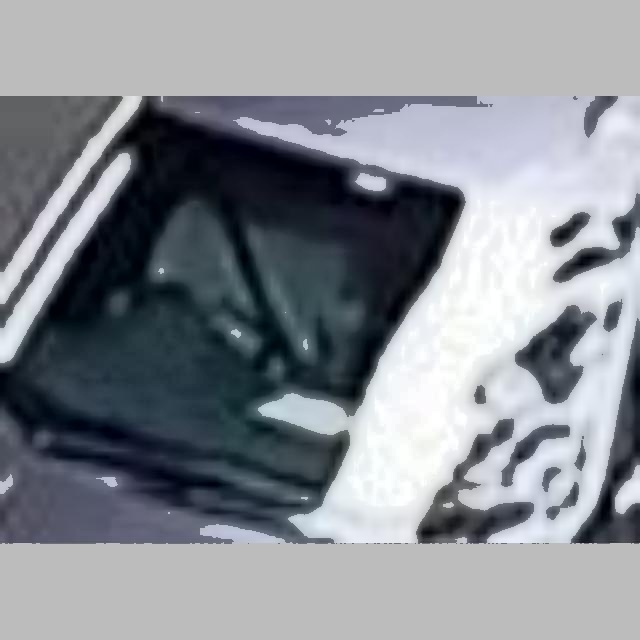pakai: (124, 179, 392, 406)
